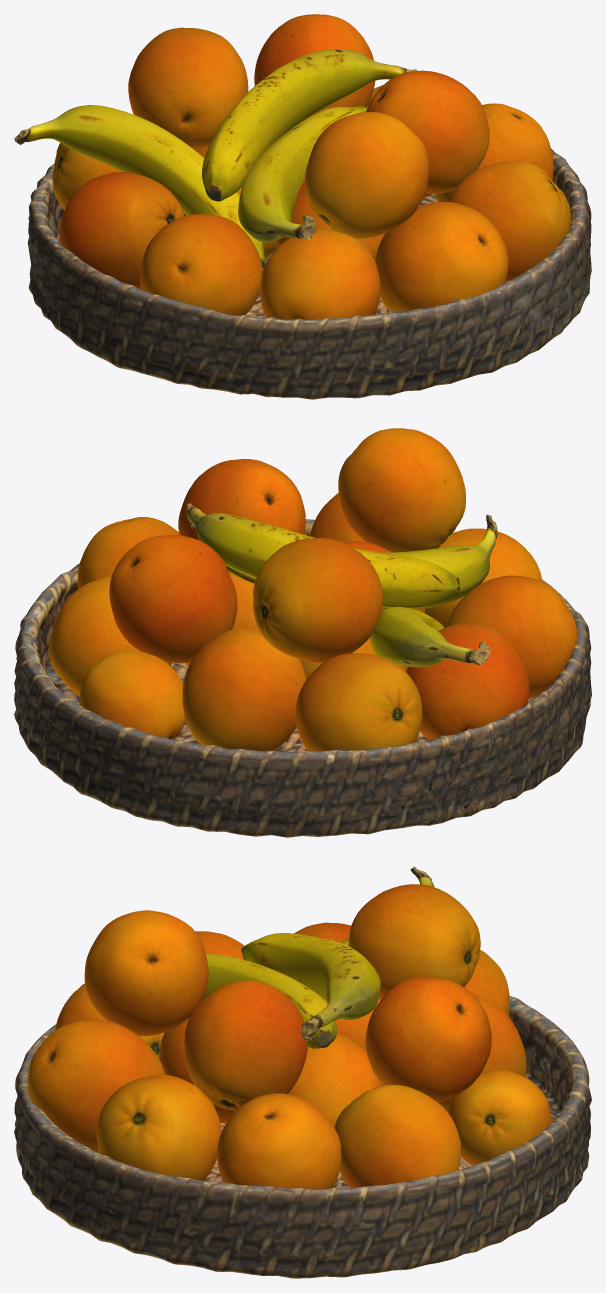
Rendered from fruit_basket_-_cytokry.glb.
3 views of the same model, one above another, from view 1: azimuth 30°, elevation 25°; view 2: azimuth 150°, elevation 25°; view 3: azimuth 270°, elevation 25° (orthographic). The views are drawn at different scales.
Parts seen in each view (by area): view 1: CyTokry; view 2: CyTokry; view 3: CyTokry.
Boxes of the visible parts, x1,y1,x2,y2 form: CyTokry: [14, 14, 591, 399]; CyTokry: [14, 428, 591, 837]; CyTokry: [14, 866, 591, 1278].
Size of the model in its own units: 0.312 by 0.1398 by 0.3106.
Materials: 4 (4 with a texture image).
